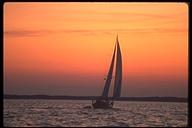sailboat: (90, 31, 124, 110)
sky: (5, 4, 97, 95), (123, 3, 187, 96), (4, 3, 187, 33)
water: (3, 110, 187, 125)
